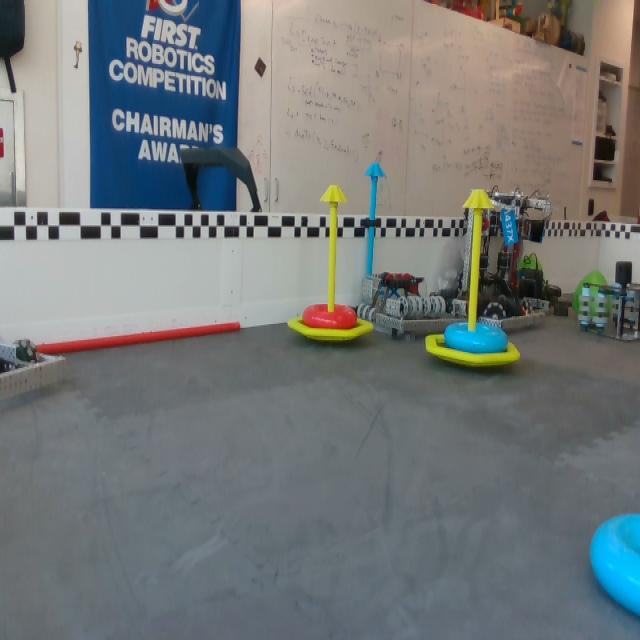Blue-Ring: (594, 512, 639, 619), (445, 321, 511, 356)
Mobile-Goal: (419, 180, 523, 373), (290, 184, 373, 347)
Red-Ring: (305, 302, 359, 331)
Yellow-Stake-Head: (463, 189, 495, 211), (318, 184, 351, 205)
zblue-Stake-Head: (365, 162, 386, 178)
